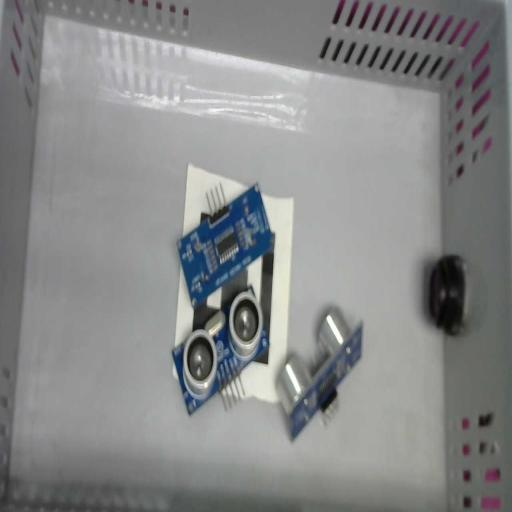QR: (172, 164, 294, 404)
ultrasonic_hc-sr04: (172, 283, 270, 415), (176, 182, 274, 309), (274, 304, 364, 442)
